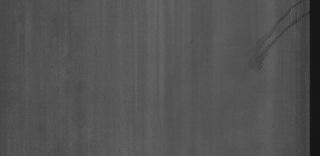water spot: (246, 0, 308, 76)
